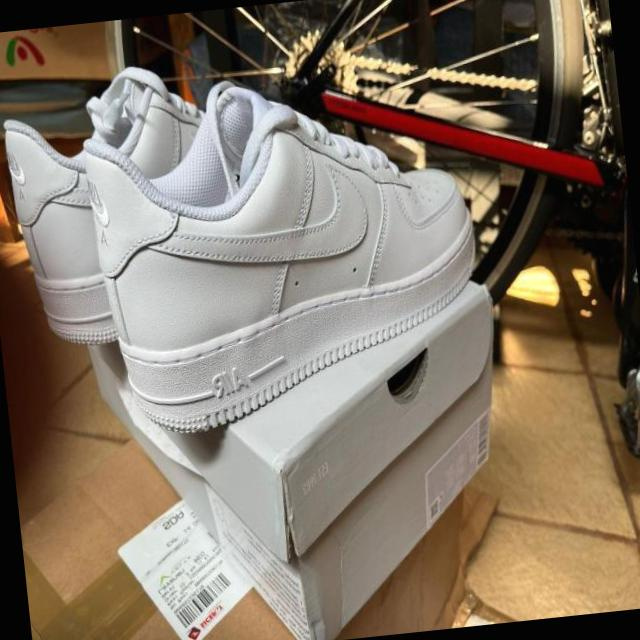nike_original_airforce: (65, 62, 494, 444), (0, 63, 233, 354)
